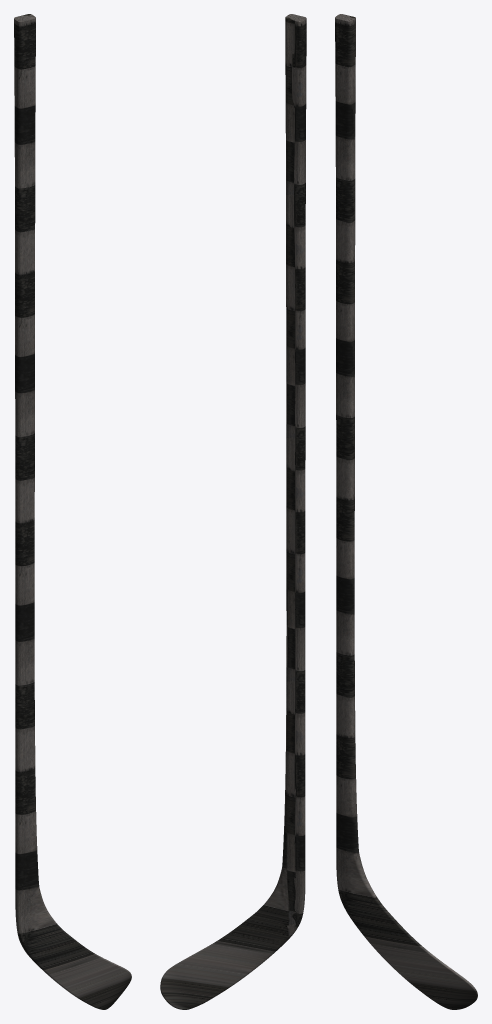
File: P110-SBO.glb
The picture shows the model from 3 angles, left to right: view 1: azimuth 30°, elevation 25°; view 2: azimuth 150°, elevation 25°; view 3: azimuth 330°, elevation 25°; orthographic projection. The views are drawn at different scales.
Parts seen in each view (by area): view 1: geometry_0; view 2: geometry_0; view 3: geometry_0.
Part boxes in pixels (x1,y1,x2,y2): geometry_0: [14, 14, 131, 1009]; geometry_0: [160, 14, 306, 1009]; geometry_0: [335, 14, 477, 1009].
Bounding box in the file's own units: 220 × 1650 × 66.55.
Materials: 1 (1 with a texture image).
